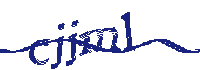c: (28, 36, 52, 67)
j: (52, 16, 66, 70), (66, 16, 80, 70)
l: (120, 11, 135, 54)
m: (79, 26, 121, 55)
